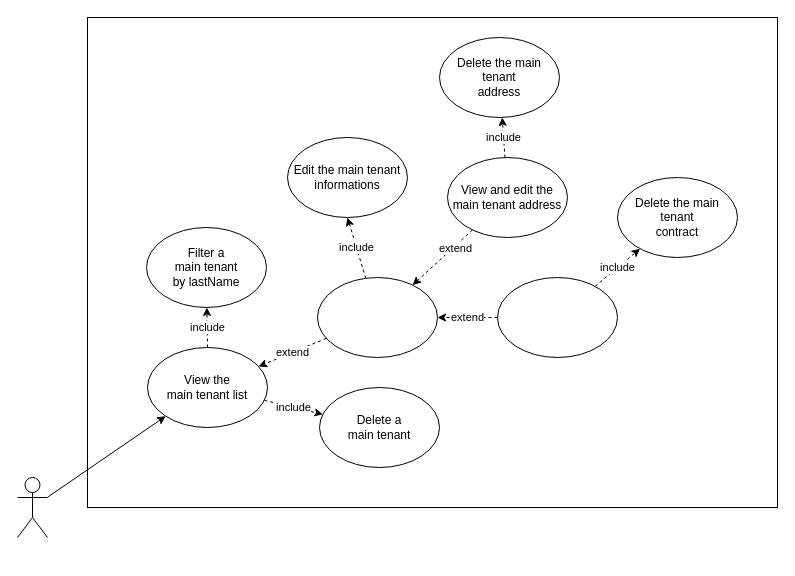
Image size: 795x576. Some labels were removed from this diagram. The centre of each missing label's shape, as x and y in pixels:
"User" belongs at (x=32, y=507).
"View and edit the main tenant contracts" belongs at (x=557, y=317).
"View the main tenant informations" belongs at (x=377, y=317).
